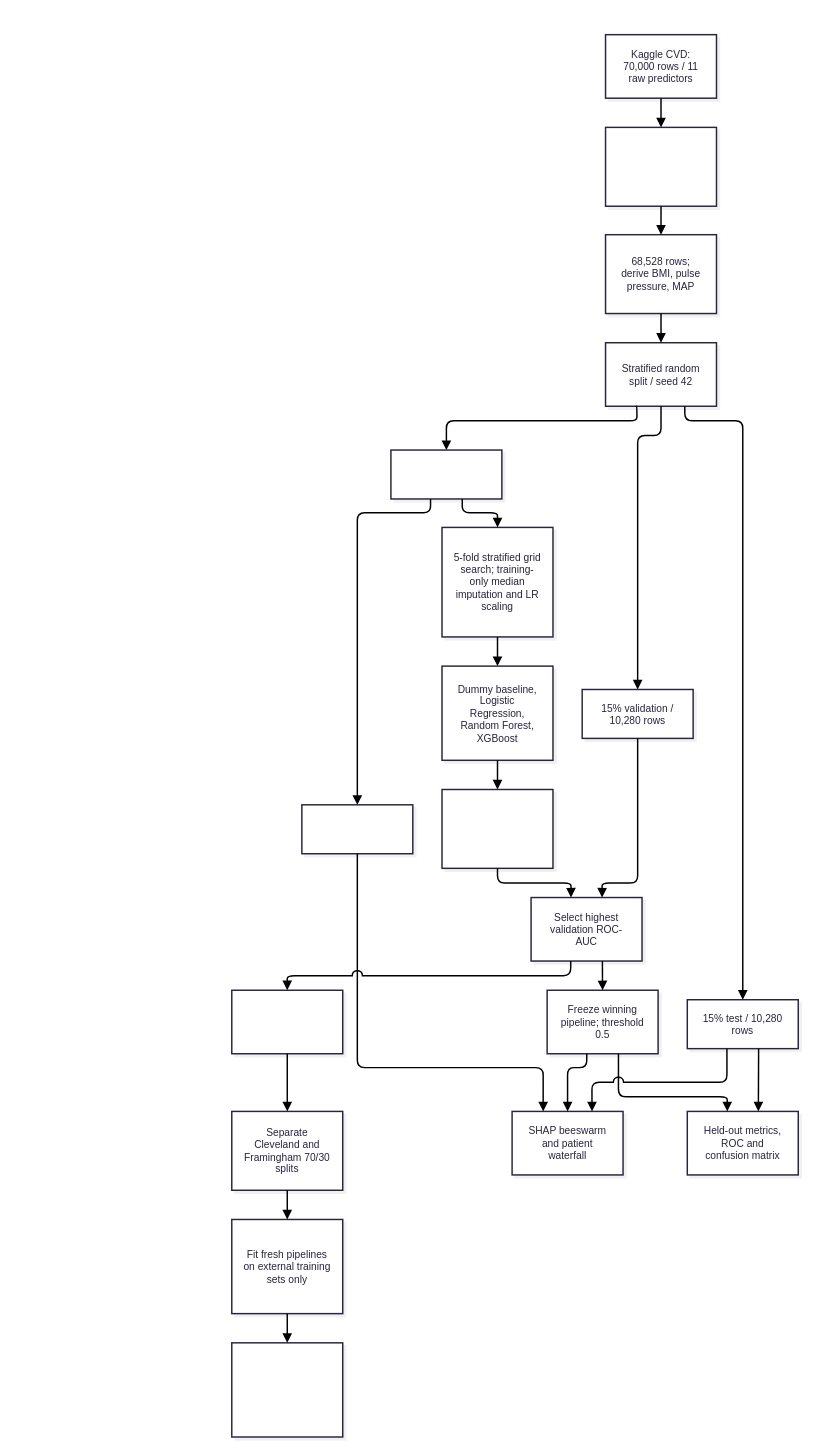
The diagram is 814 pixels wide and 1453 high, and some of its shapes have lost their labels. The shapes that lost their labels are listed below. From the top down, each one's centre as x and y in pixels, then its label:
At point 662,168: "Remove ID, repeated profiles and implausible rows".
At point 447,475: "70% training / 47,968 rows".
At point 358,830: "Training-only SHAP background".
At point 498,830: "Refit each best candidate on training; save CV mean and SD".
At point 288,1023: "Reuse algorithm and tuned parameters".
At point 288,1391: "Separate holdout results and training CV; different endpoints".
